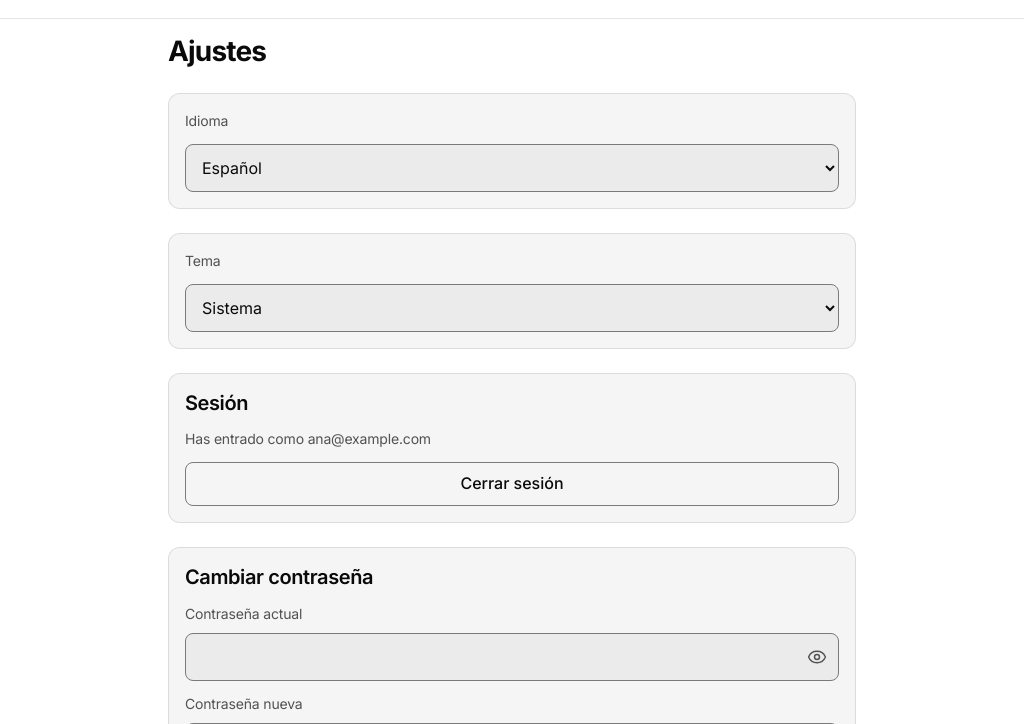
Scenario: cambiar la contraseña › contraseña nueva débil explica el motivo
Type "caballo-grapa-azul" into the password field labelled "Contraseña actual".
click(512, 657); type("caballo-grapa-azul")  # box [185,633,839,681]
(page scrolled)
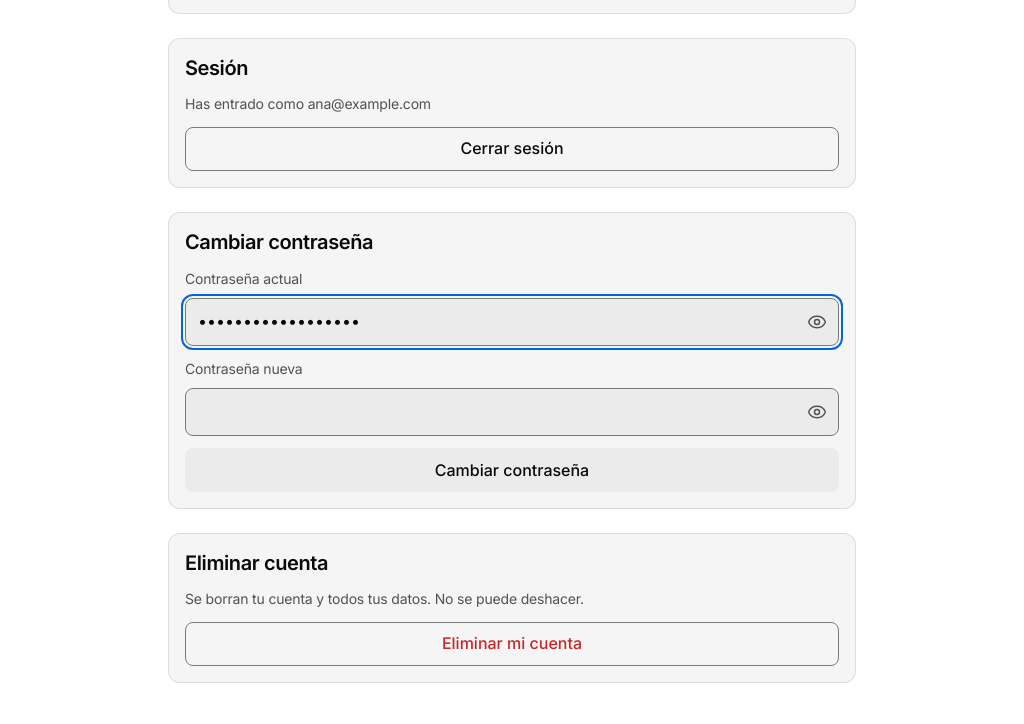
Type "password123" into the password field labelled "Contraseña nueva".
click(512, 412); type("password123")  # box [185,388,839,436]
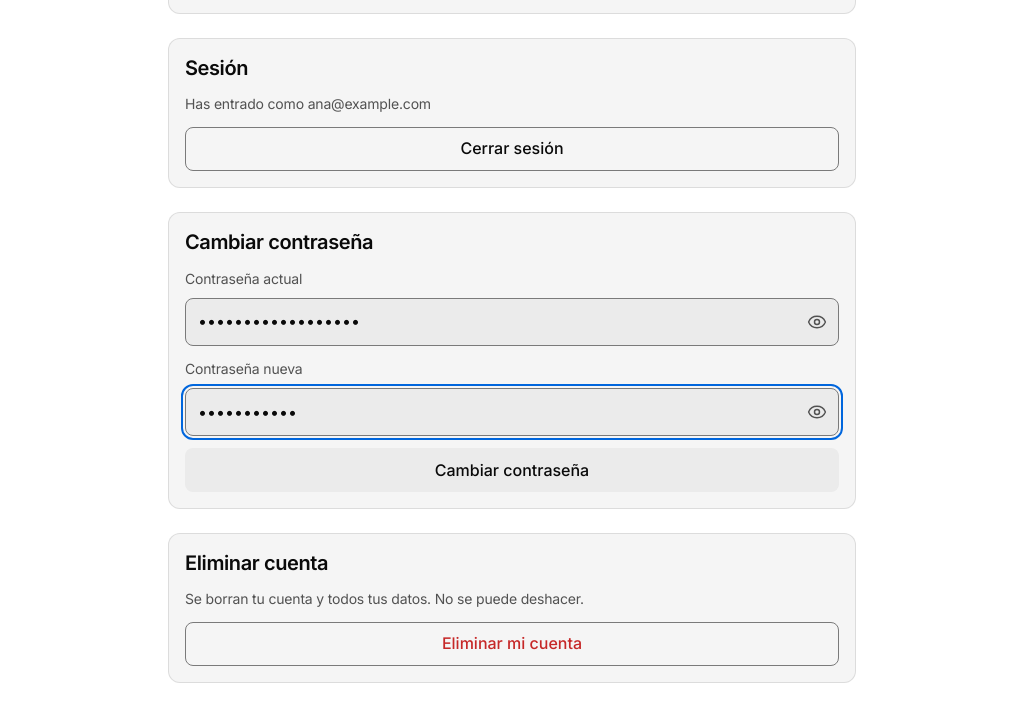
Click the button "Cambiar contraseña".
click(512, 470)  # box [185,448,839,492]
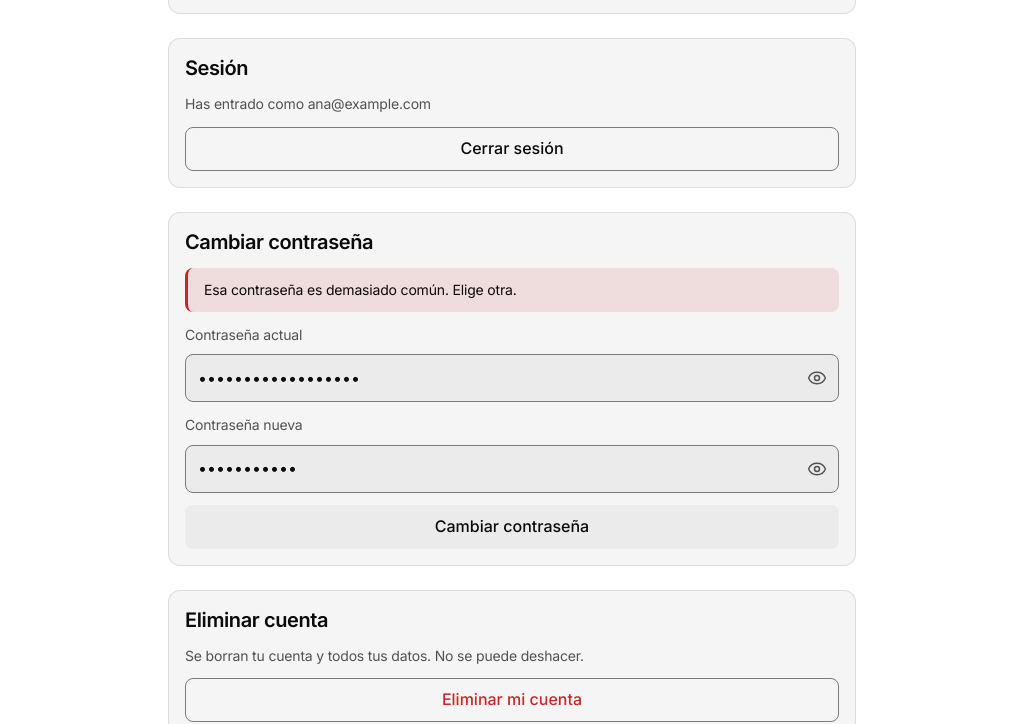
expect the message shows "demasiado común": met, box [204,281,517,298]
